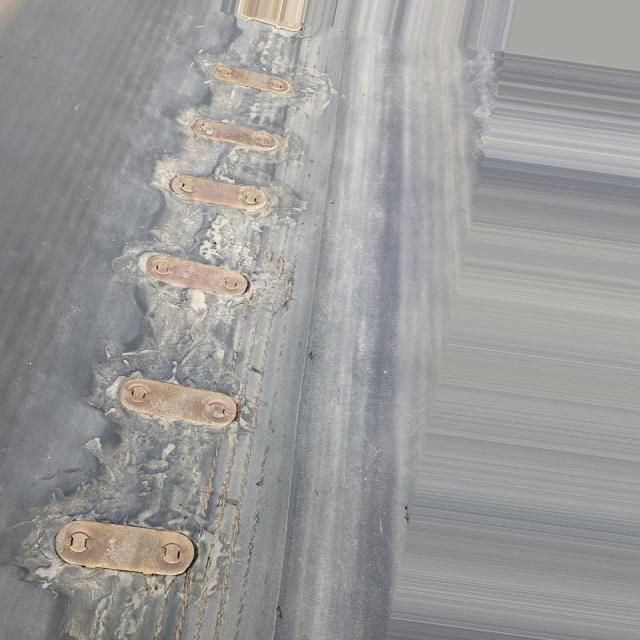patch work: (29, 0, 328, 634)
